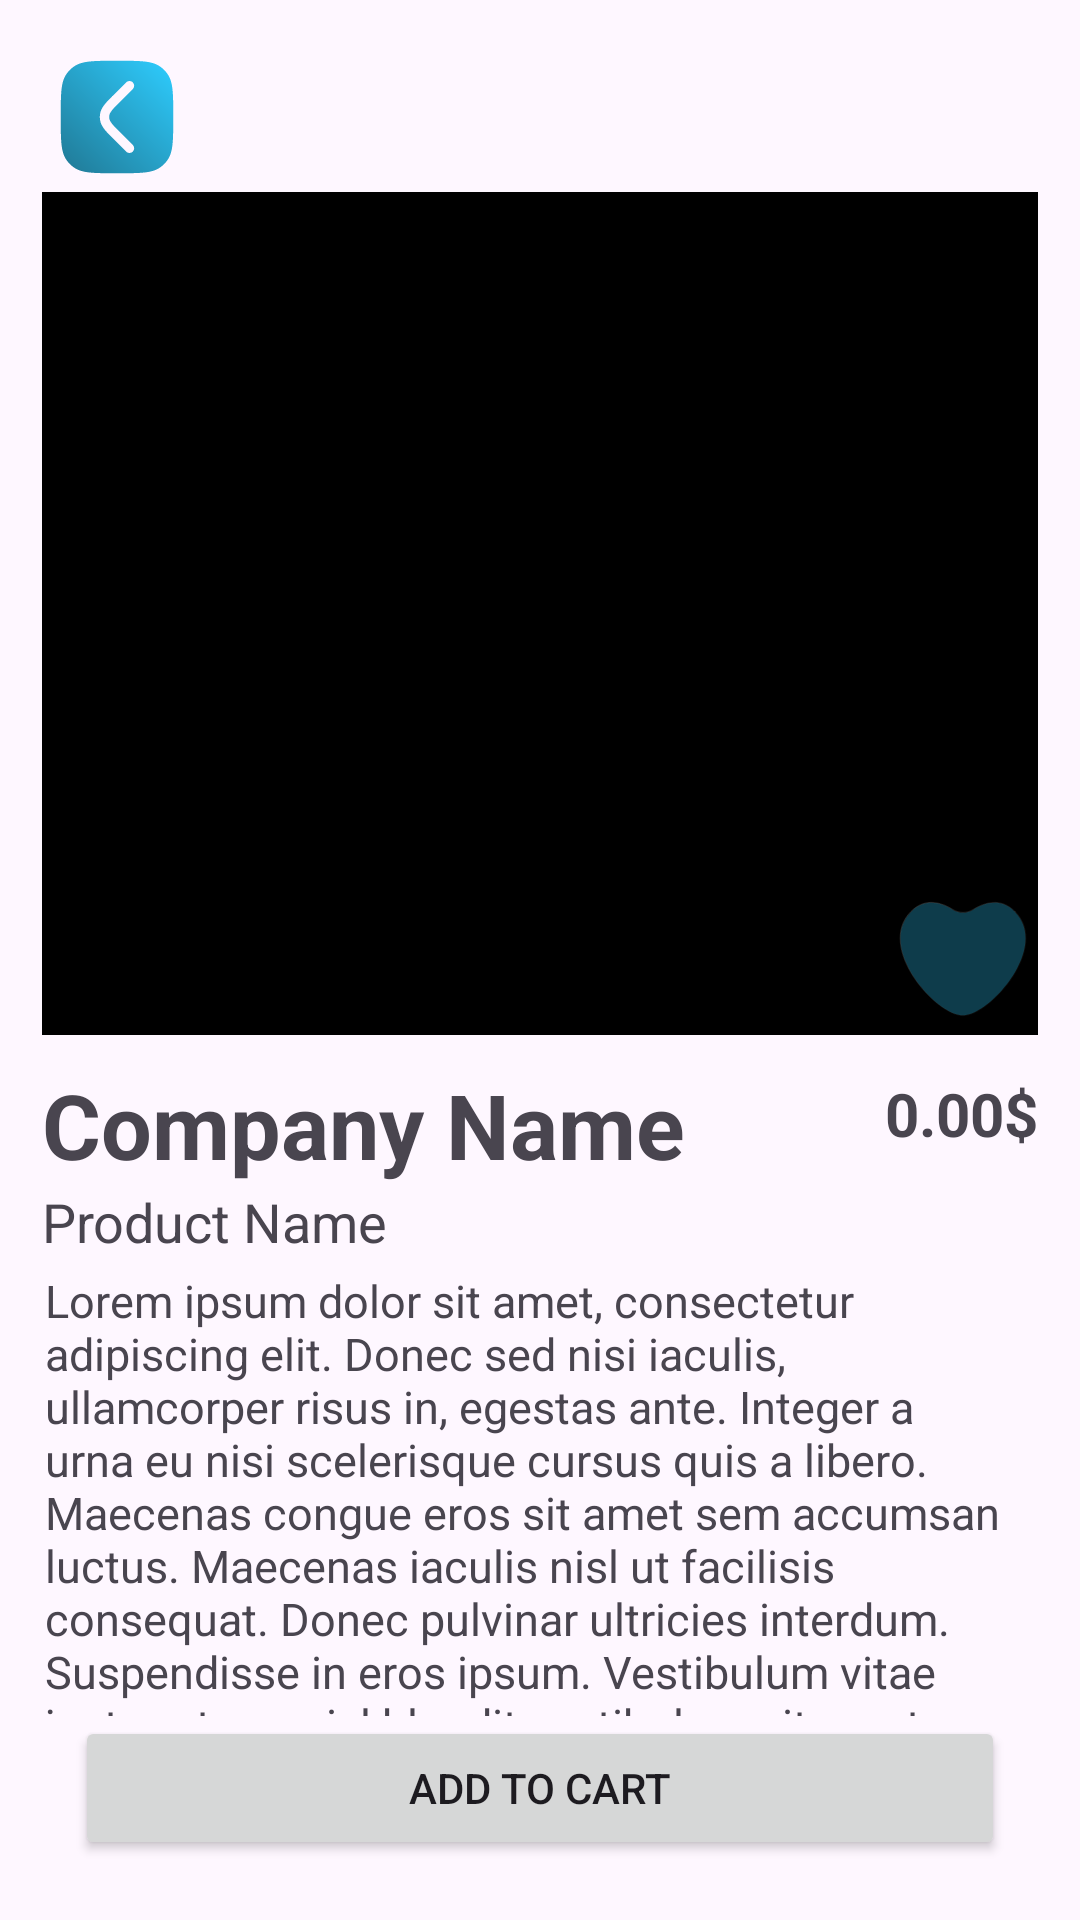

Screen size 1080×1920. Icon name, then its center in pixels as (x=x, y=y):
back: (x=117, y=117)
fav: (x=963, y=959)
